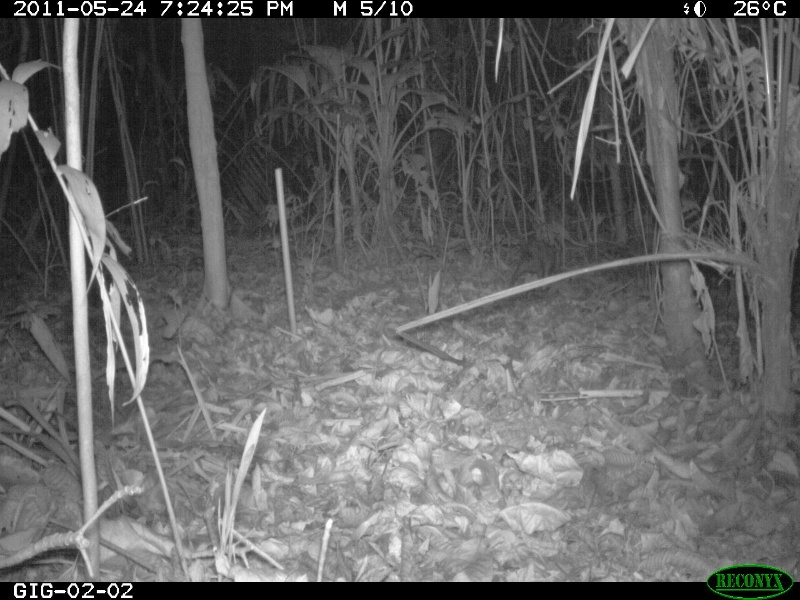opossum: (503, 239, 567, 286)
